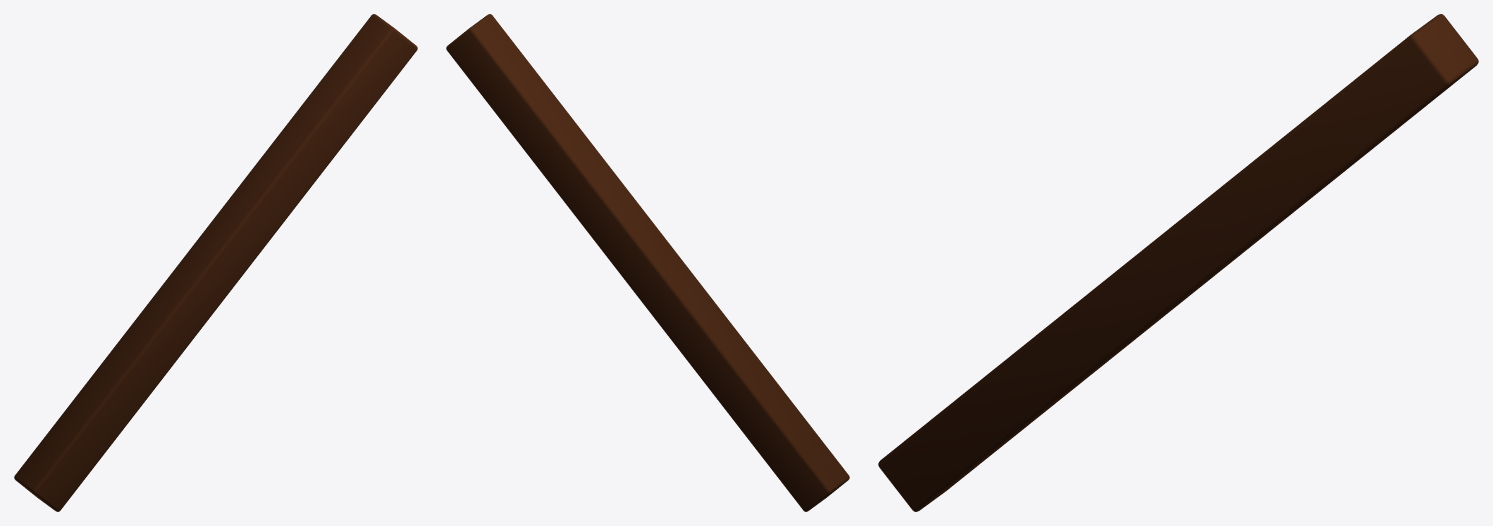
File: diagonal-support-beam.obj
3 renders of one model, left to right at view 1: azimuth 30°, elevation 25°; view 2: azimuth 150°, elevation 25°; view 3: azimuth 330°, elevation 25°, orthographic. The views are drawn at different scales.
Parts seen in each view (by area): view 1: diagonal-support-beam; view 2: diagonal-support-beam; view 3: diagonal-support-beam.
Part boxes in pixels (box(x1,y1,x2,y2)): diagonal-support-beam: box(14, 14, 417, 511); diagonal-support-beam: box(446, 14, 849, 511); diagonal-support-beam: box(878, 14, 1478, 511).
Bounding box in the file's own units: 1.66 × 1.66 × 0.16.
